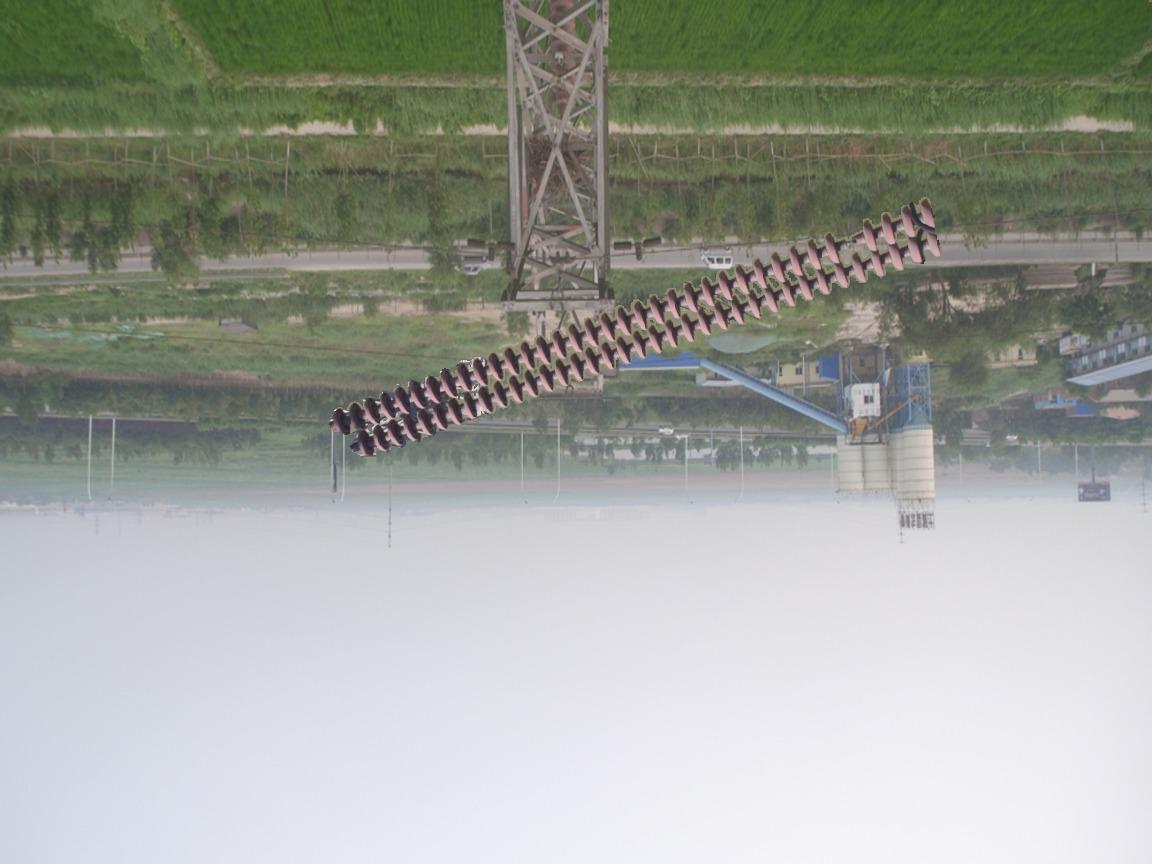insulator: (328, 192, 945, 458), (545, 1, 579, 102)
insulator_stringdrop: (823, 214, 881, 267)
